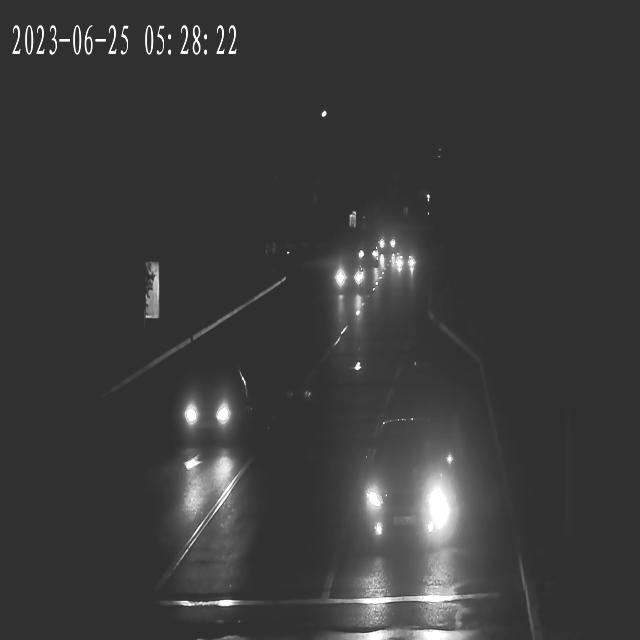Car: (365, 417, 458, 557), (182, 367, 248, 454), (334, 259, 364, 297), (396, 251, 417, 280), (361, 242, 379, 274), (381, 231, 396, 251)
